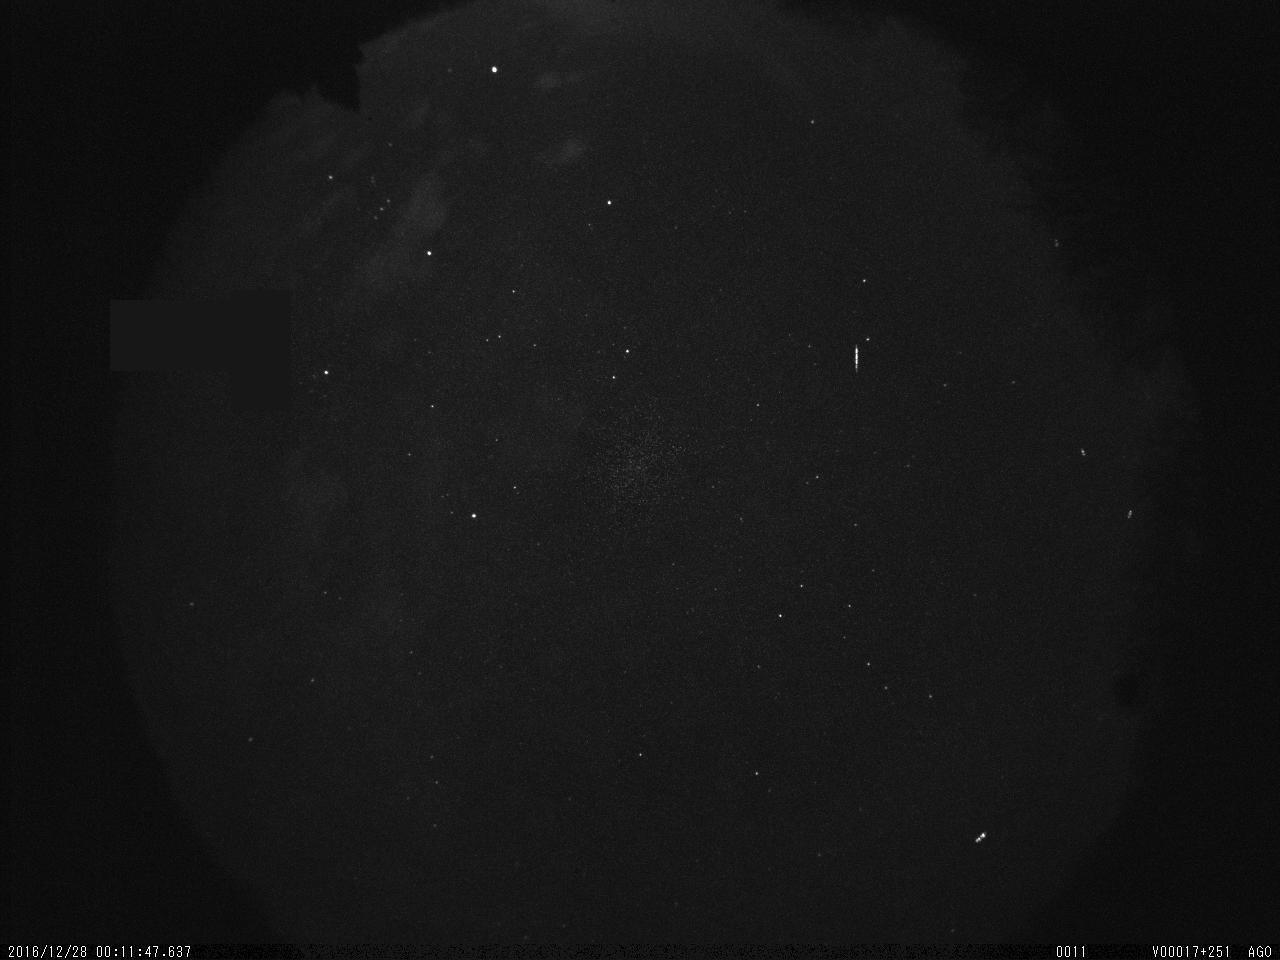meteor: (847, 342, 868, 379)
